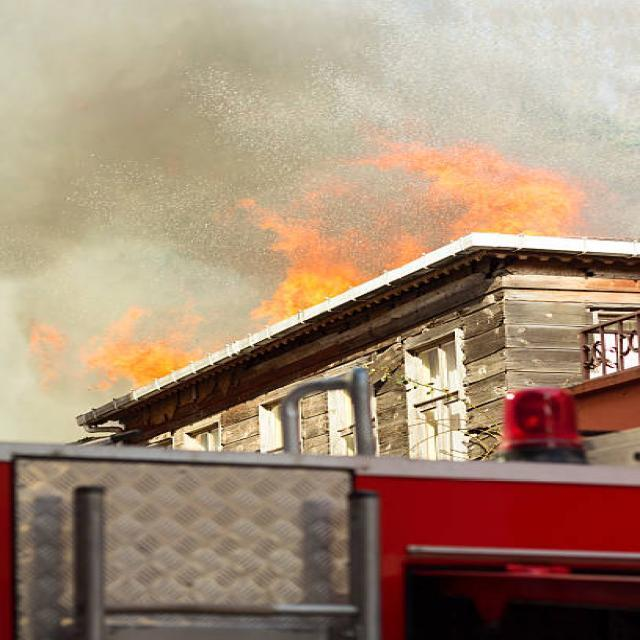Fire: (253, 163, 592, 257), (49, 328, 218, 378), (249, 257, 352, 311)
Smoke: (2, 1, 271, 268), (279, 0, 640, 176)
